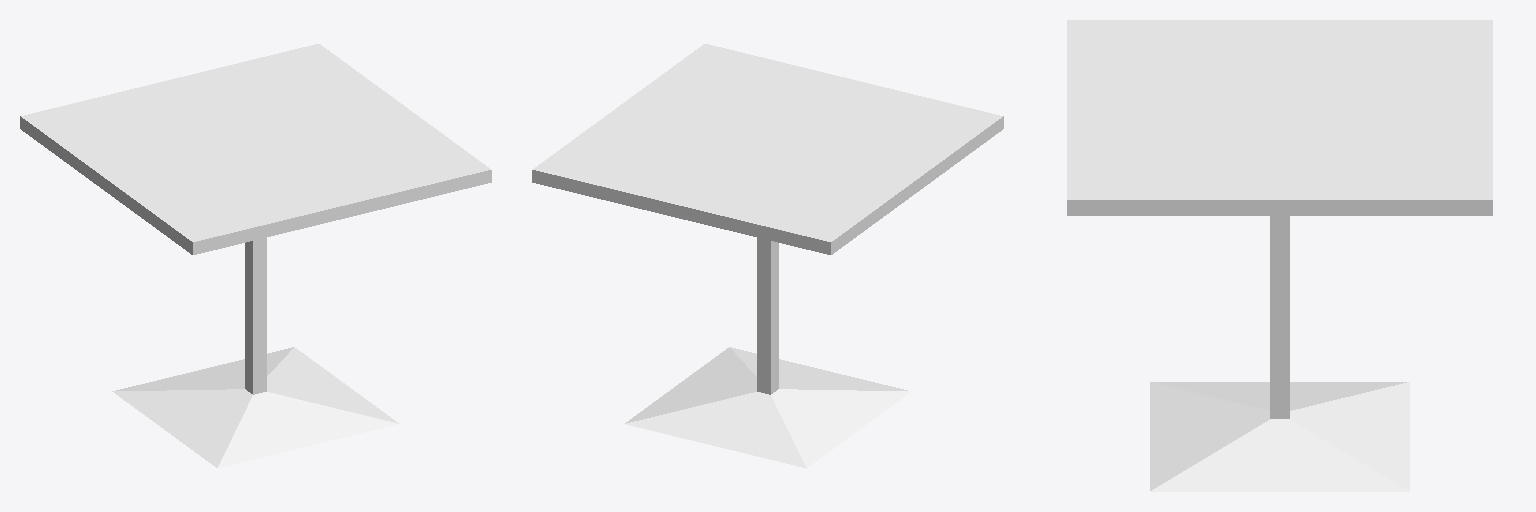
The robot description file, URDF, robot "cafe_table_org":
<?xml version='1.0' encoding='ASCII'?>
<robot name="cafe_table_org">
    <link name="baseLink">
        <visual>
            <origin rpy="0 0 0" xyz="0 0 0"/>
            <geometry>
                <mesh filename="cafe_table.obj" scale="1.0 1.0 1.0"/>
            </geometry>
            <material name="texture">
                <color rgba="1.0 1.0 1.0 1.0" />
            </material>
        </visual>
        <collision>
            <origin rpy="0 0 0" xyz="0 0 0"/>
            <geometry>
                <mesh filename="cafe_table.obj" scale="1.0 1.0 1.0"/>
            </geometry>
        </collision>   
        <inertial>
            <mass value="0.0"/>
            <inertia ixx="1.0" ixy="0.0" ixz="0.0" iyy="1.0" iyz="0.0" izz="1.0" />
        </inertial>
    </link>
</robot>

--- Render facts (derived) ---
3 views of the same robot in one strip: view 1: azimuth 30°, elevation 25°; view 2: azimuth 150°, elevation 25°; view 3: azimuth 270°, elevation 25° (orthographic).
Robot: cafe_table_org — 1 links, 0 joints (none); root link baseLink; default pose: every joint at zero.
Visible links, largest first — view 1: baseLink; view 2: baseLink; view 3: baseLink.
Boxes of the visible links, box(x1,y1,x2,y2) form: baseLink: box(20, 44, 491, 468); baseLink: box(532, 44, 1003, 468); baseLink: box(1067, 20, 1492, 491).
Size in the robot's own frame: 0.9144 by 0.9144 by 0.7747 metres.
1 mesh visuals loaded from 1 distinct referenced files (1 OBJ).